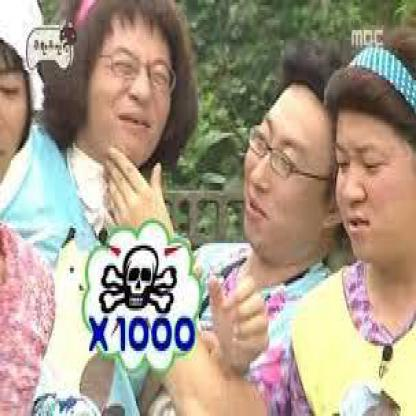skull: (99, 240, 178, 316)
